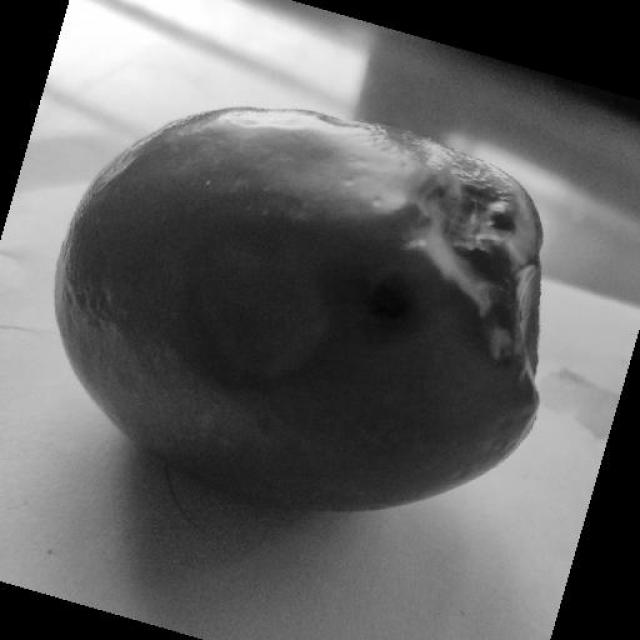Stale_tomato: (78, 140, 557, 492)
